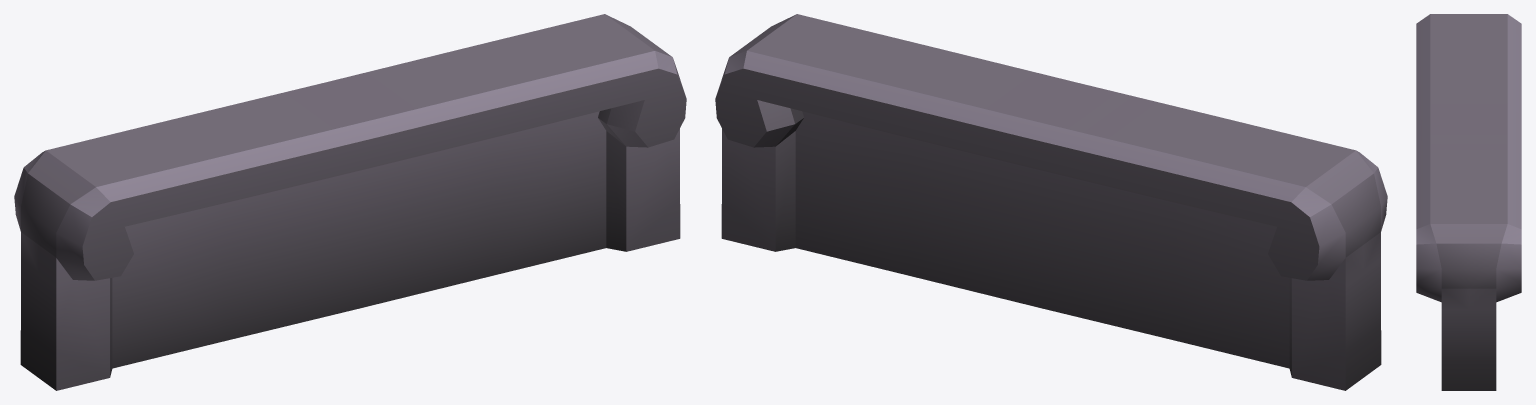
The model's file is stonewall_5.glb.
The picture shows the model from 3 angles, left to right: view 1: azimuth 30°, elevation 25°; view 2: azimuth 150°, elevation 25°; view 3: azimuth 270°, elevation 25°; orthographic projection. The views are drawn at different scales.
Parts seen in each view (by area): view 1: stonewall_5; view 2: stonewall_5; view 3: stonewall_5.
Part boxes in pixels (box(x1,y1,x2,y2)): stonewall_5: box(14, 14, 686, 390); stonewall_5: box(715, 14, 1387, 390); stonewall_5: box(1416, 14, 1521, 390).
Size of the model in its own units: 3.31 by 1.02 by 0.6268.
1 material, 1 textured.
